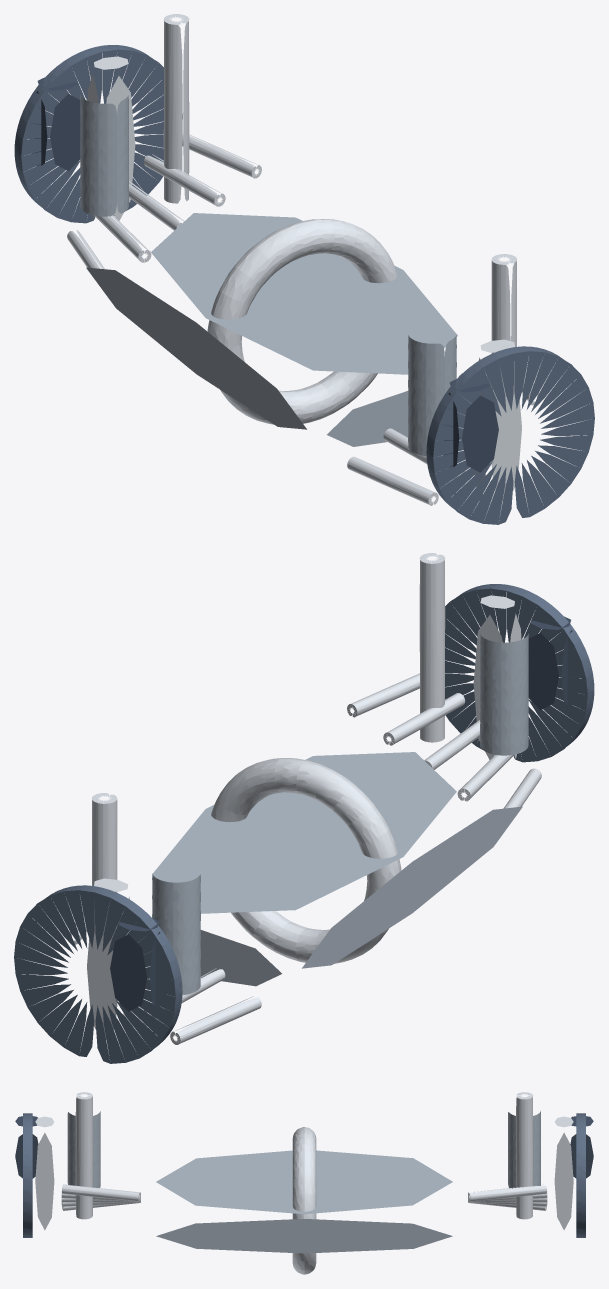
Rendered from rear_subframe.glb.
The picture shows the model from 3 angles, top to bottom: view 1: azimuth 30°, elevation 25°; view 2: azimuth 150°, elevation 25°; view 3: azimuth 270°, elevation 25°; orthographic projection. The views are drawn at different scales.
Visible parts, largest first — view 1: Rear_5Link_Suspension, Rear_Subframe_Carrier; view 2: Rear_5Link_Suspension, Rear_Subframe_Carrier; view 3: Rear_Subframe_Carrier, Rear_5Link_Suspension.
Part boxes in pixels (<box>): Rear_5Link_Suspension: <box>14,14,594,524</box>; Rear_Subframe_Carrier: <box>86,213,491,446</box>; Rear_5Link_Suspension: <box>14,553,594,1063</box>; Rear_Subframe_Carrier: <box>117,752,522,986</box>; Rear_Subframe_Carrier: <box>156,1127,452,1274</box>; Rear_5Link_Suspension: <box>15,1092,593,1237</box>.
Size of the model in its own units: 0.48 by 0.5826 by 1.67.
